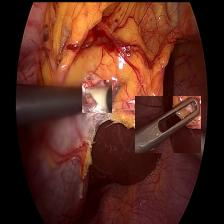Grasper: (134, 95, 200, 152)
Hook: (81, 79, 111, 112)
